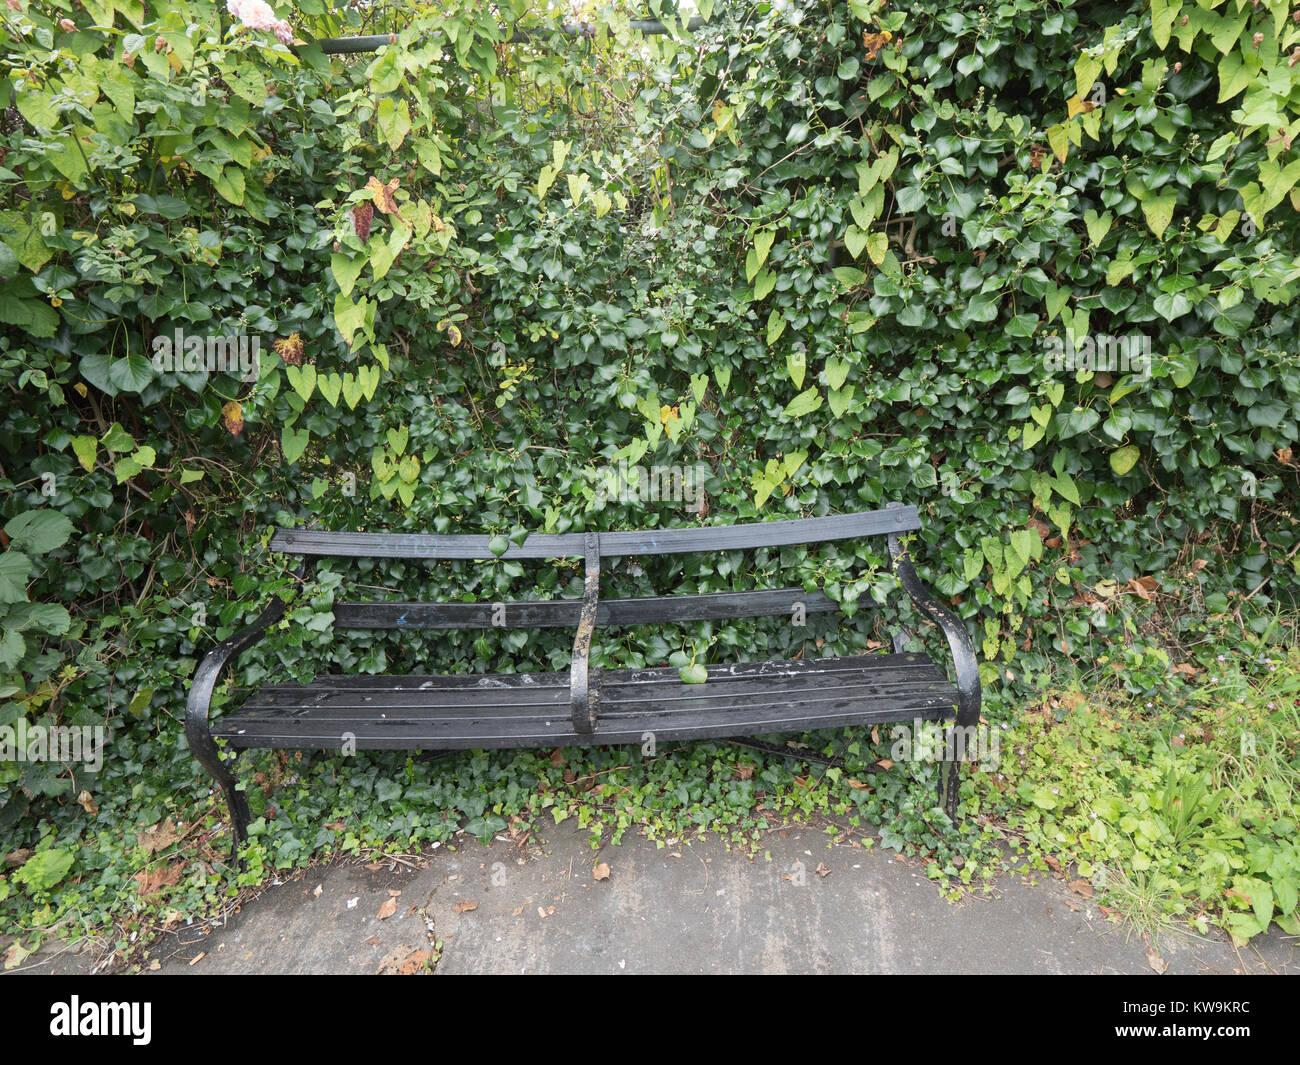overgrown grass: (723, 734, 938, 845), (282, 760, 466, 834), (625, 626, 710, 664)
